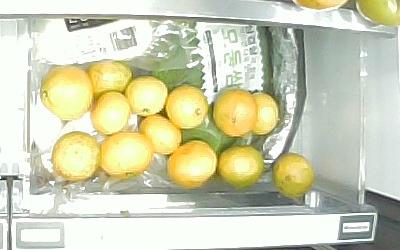tangerine: (40, 65, 93, 121), (95, 131, 152, 180), (51, 130, 101, 181), (167, 139, 216, 190), (212, 88, 259, 137), (218, 145, 266, 189), (165, 85, 209, 130), (272, 152, 314, 196), (124, 74, 168, 116), (89, 91, 130, 136), (138, 114, 183, 153), (89, 60, 132, 96), (250, 91, 279, 136)
